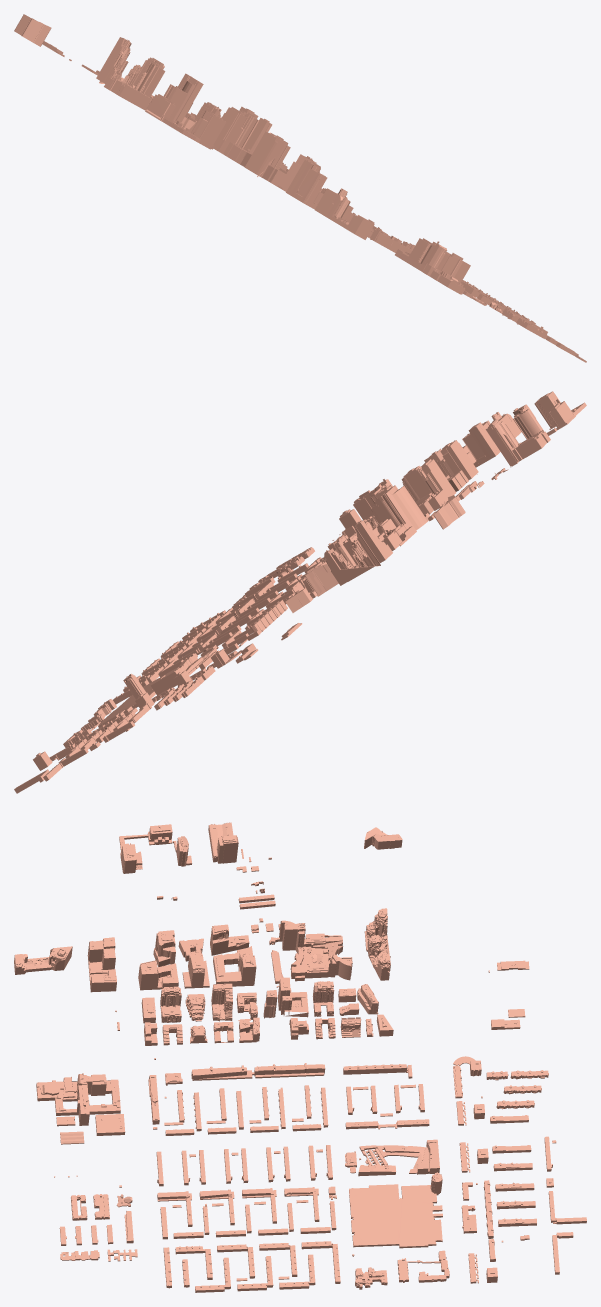
3 views of the same model, one above another, from view 1: azimuth 30°, elevation 25°; view 2: azimuth 150°, elevation 25°; view 3: azimuth 270°, elevation 25° (orthographic). The views are drawn at different scales.
Bounding box in the file's own units: 3.25e+07 × 2.59e+07 × 4.43e+07.
